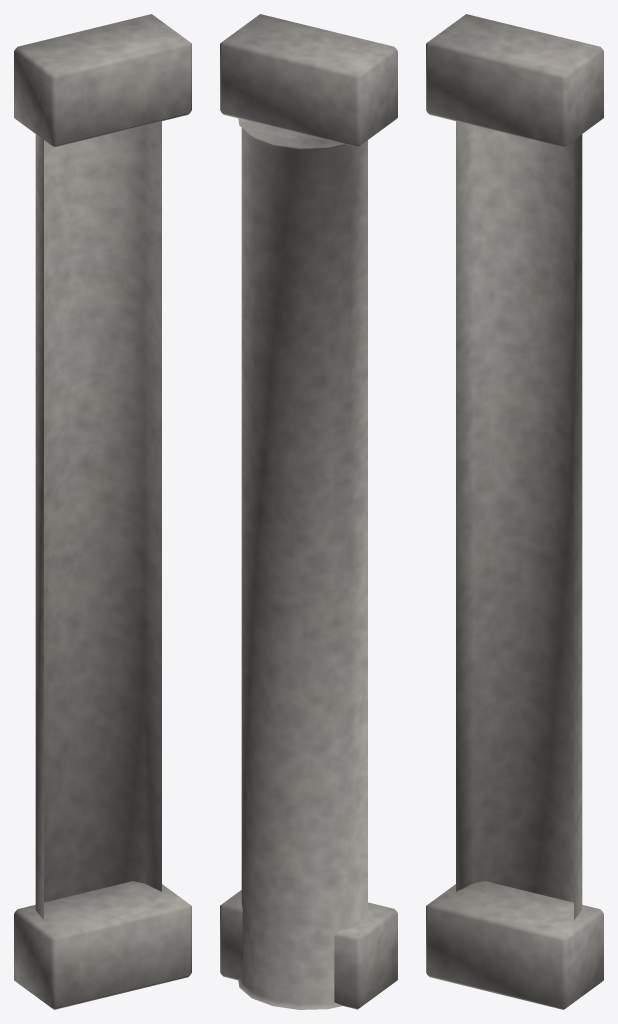
File: stone-pilaster.glb
The picture shows the model from 3 angles, left to right: view 1: azimuth 30°, elevation 25°; view 2: azimuth 150°, elevation 25°; view 3: azimuth 330°, elevation 25°; orthographic projection.
Parts seen in each view (by area): view 1: stone_pilaster; view 2: stone_pilaster; view 3: stone_pilaster.
Boxes of the visible parts, x1,y1,x2,y2 form: stone_pilaster: (14,14,191,1009); stone_pilaster: (220,14,397,1009); stone_pilaster: (426,14,603,1009).
Bounding box in the file's own units: 0.6 × 3.8 × 0.4153.
1 material, 1 textured.
